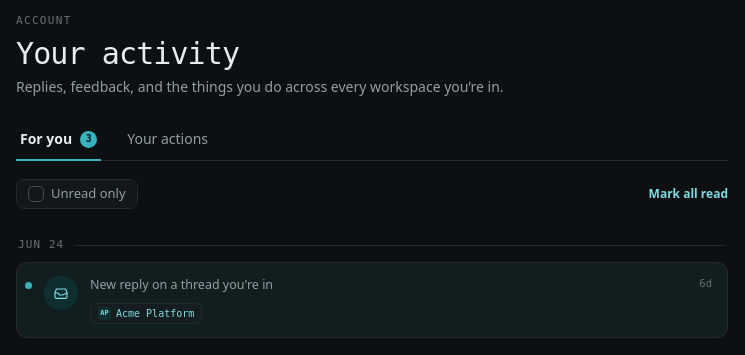
Test: Your activity two-tab page (your-activity-actions S-002) › C-004: the For-you tab shows an unread pill; the Your actions tab shows none
Expected: the text with test id "me-tab-for-you-pill" reads "3", 86,133 -> 92,144
// Switching to Your actions surfaces no unread/mark control on the panel.
Click the tab with test id "me-tab-actions": coordinates (168, 140) 123,119 -> 212,161
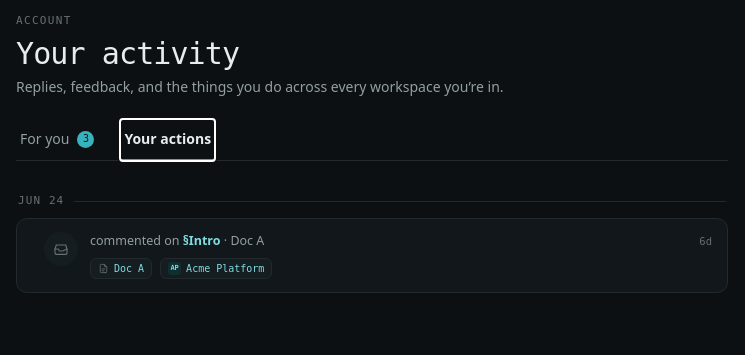
Now the element with test id "your-actions" is shown, box 16,179 -> 728,293
Now the element with test id "inbox-toolbar" is gone
